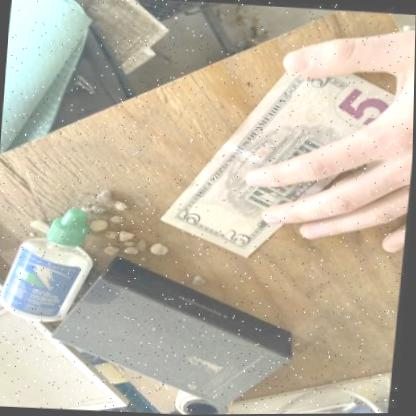dollar_back: (160, 49, 411, 256)
